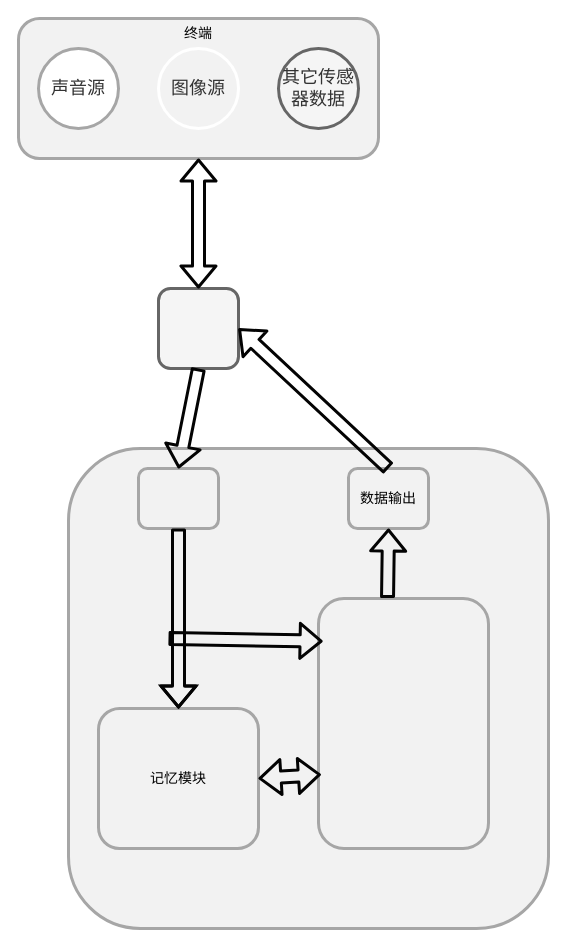
Some shapes in this 567 by 947 pixel diagram are drawn without their labels. Each missing label, with the centre of its shape:
数据生成: the point at 403,723
数据预处理: the point at 178,498
网络节点: the point at 198,328
